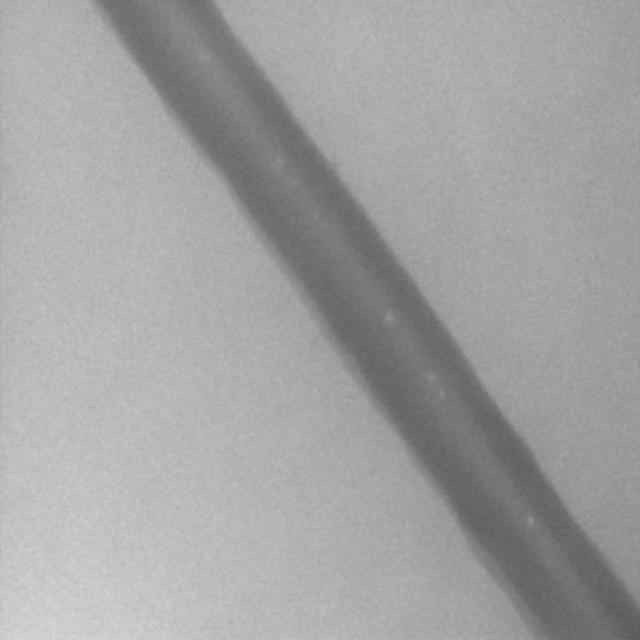air hole: (382, 312, 394, 325), (525, 515, 534, 529)
